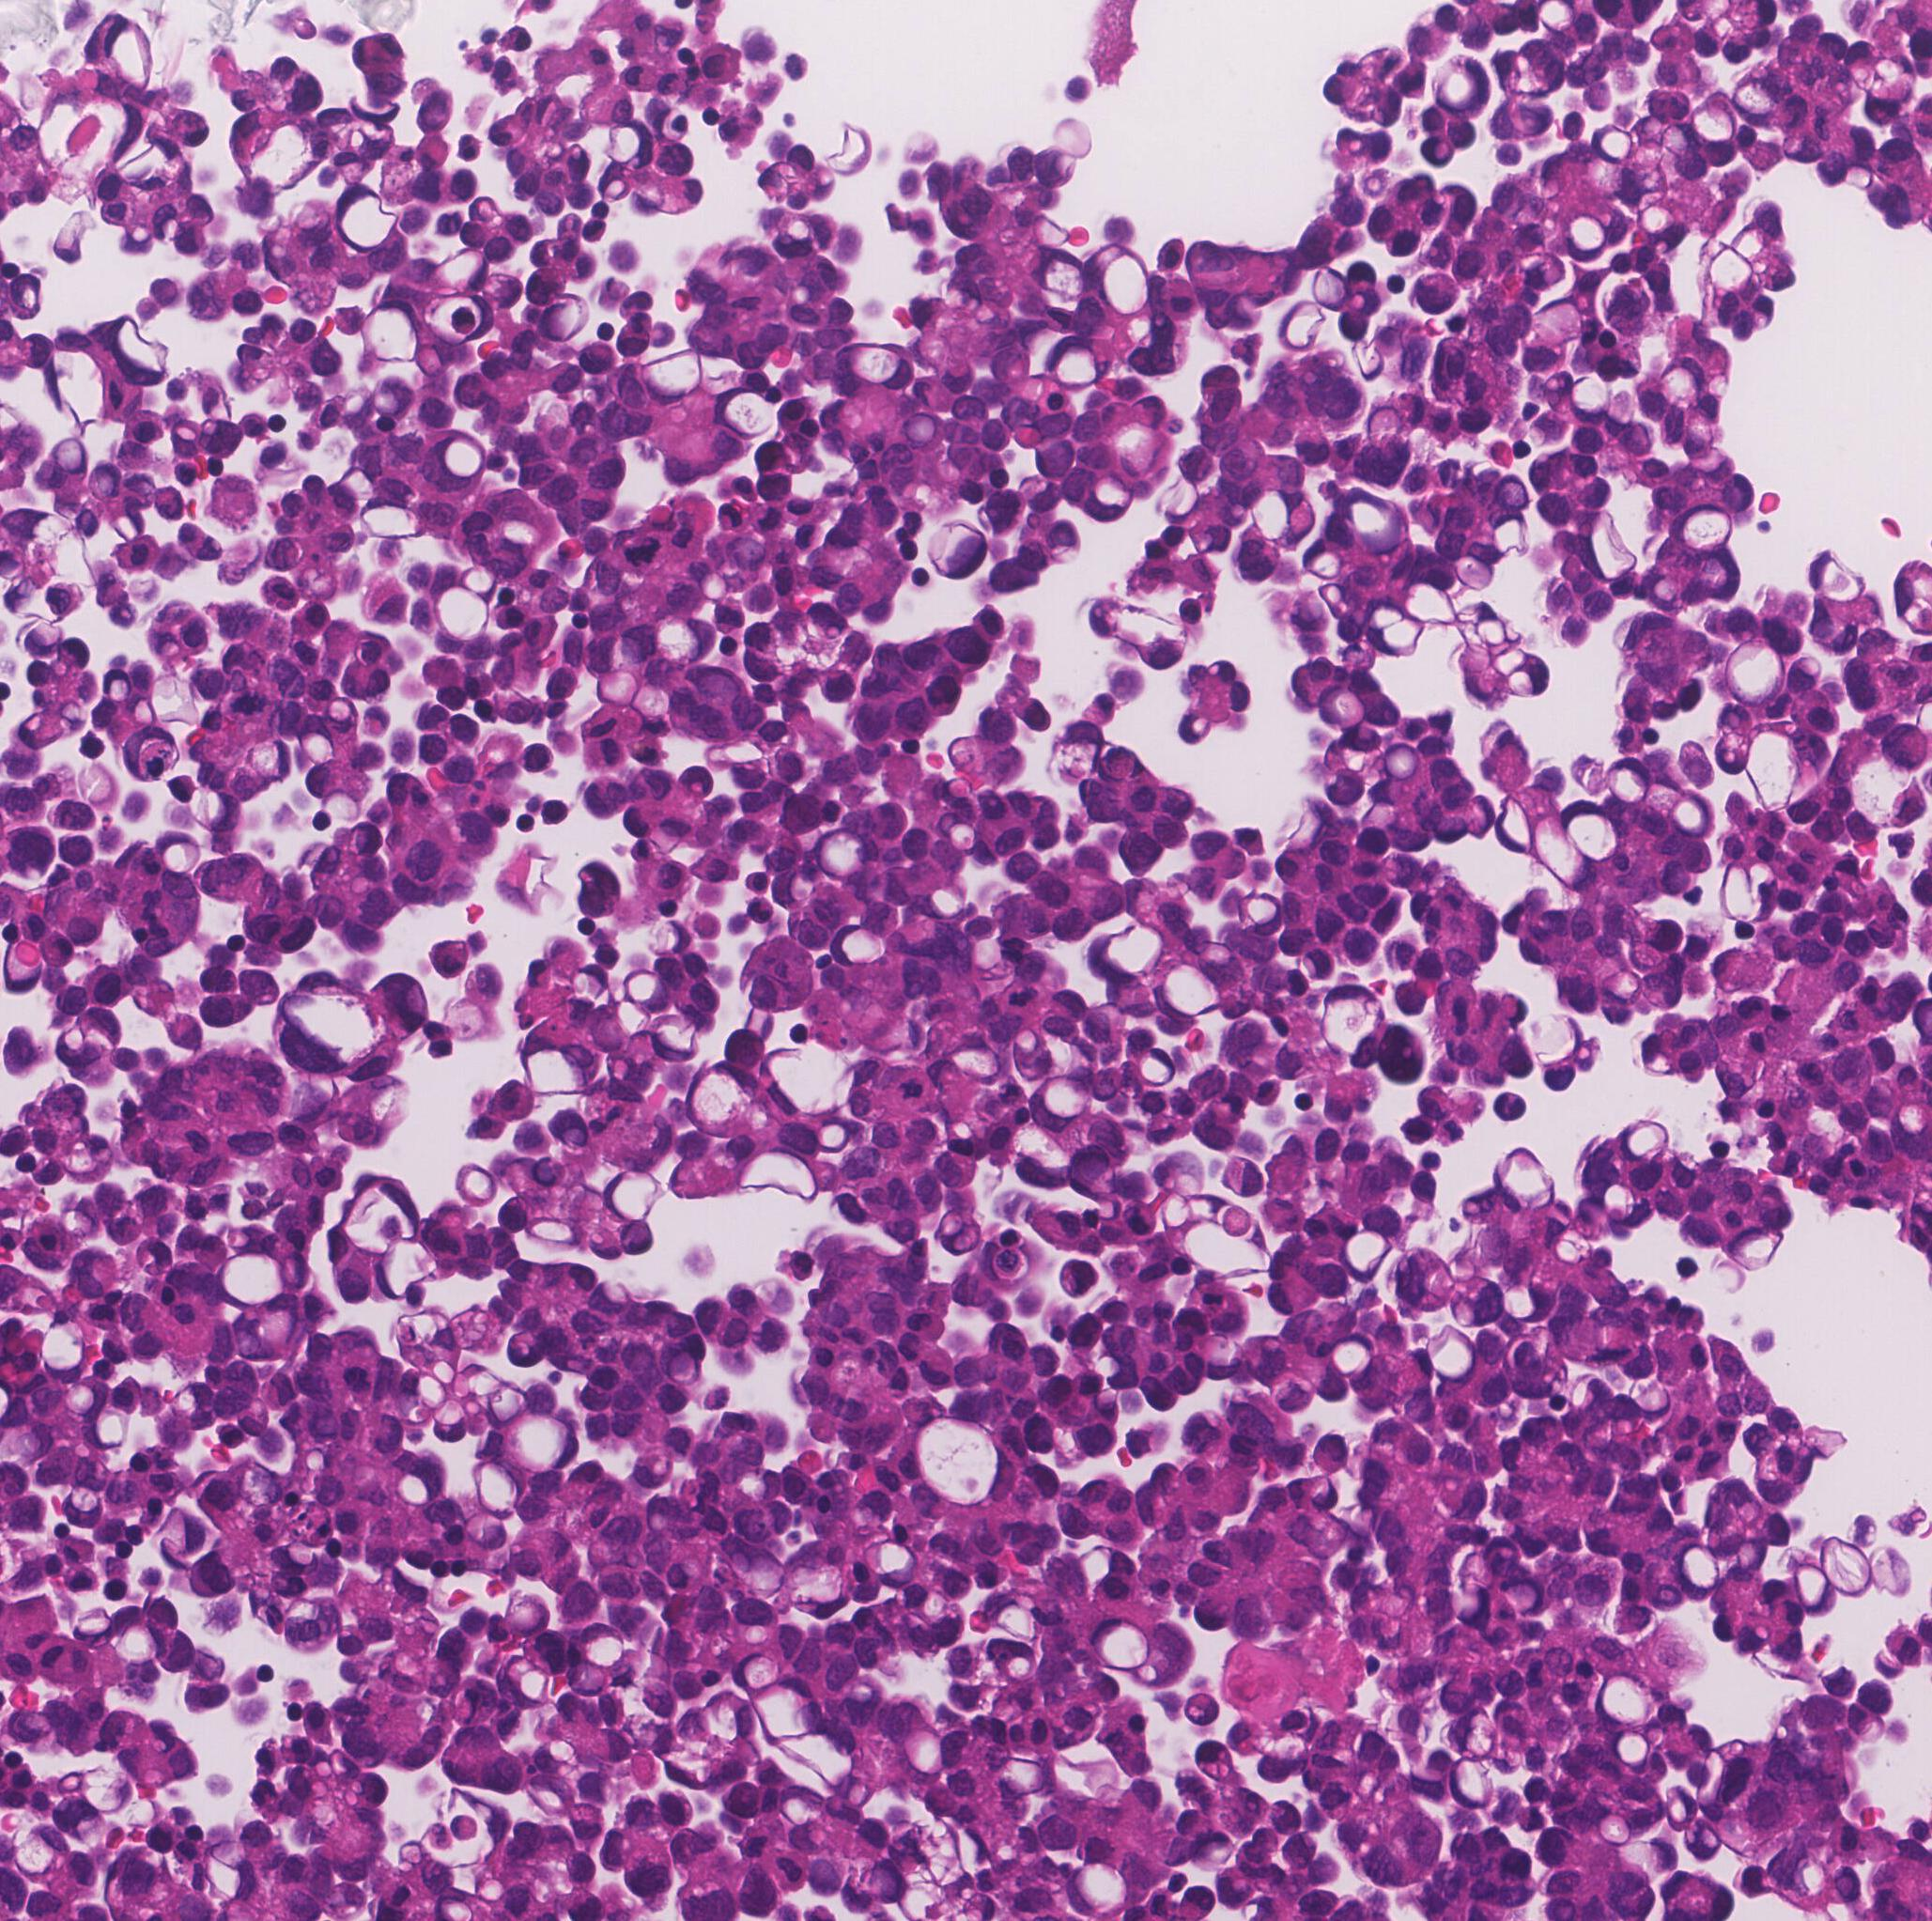ring_cell_cancer: (1086, 1611, 1161, 1678), (519, 1040, 595, 1103), (1723, 637, 1784, 712), (107, 315, 174, 383), (1536, 809, 1592, 890), (1323, 982, 1385, 1055), (1490, 1143, 1555, 1212), (1156, 959, 1226, 1020), (1559, 795, 1621, 862), (521, 1406, 581, 1474), (1431, 58, 1499, 118), (106, 16, 158, 93), (114, 725, 179, 786), (354, 1179, 424, 1235), (336, 186, 398, 250), (1805, 545, 1870, 605), (922, 522, 987, 582), (1093, 927, 1161, 983), (1094, 246, 1149, 317), (377, 1233, 436, 1296), (1422, 1325, 1483, 1384), (366, 299, 424, 362), (1596, 1671, 1659, 1727), (1823, 1534, 1879, 1597), (714, 385, 774, 443), (637, 355, 707, 405), (602, 1170, 665, 1224), (1066, 1859, 1130, 1914), (1670, 501, 1735, 552), (1033, 1075, 1089, 1131), (656, 612, 716, 665), (44, 1319, 91, 1384), (1533, 1013, 1587, 1070), (813, 827, 869, 881), (876, 1532, 927, 1592), (1672, 1541, 1723, 1601), (362, 500, 428, 545), (1402, 575, 1459, 628), (1731, 74, 1784, 128), (605, 118, 660, 171), (855, 341, 910, 394), (1047, 336, 1101, 389), (194, 783, 246, 836), (660, 1332, 711, 1386), (649, 1015, 706, 1064), (1601, 756, 1654, 807), (435, 431, 489, 480), (1040, 245, 1089, 299), (897, 1729, 954, 1777), (1730, 1224, 1788, 1270), (51, 202, 93, 264), (1615, 1119, 1670, 1166), (831, 920, 887, 966), (472, 1458, 517, 1515), (1496, 790, 1533, 858), (1531, 301, 1591, 343), (106, 104, 144, 169), (396, 1453, 445, 1504), (943, 1041, 1005, 1082), (778, 1777, 827, 1826), (1087, 475, 1137, 524), (1561, 213, 1612, 260), (1624, 1372, 1675, 1420), (1694, 554, 1742, 605), (1710, 243, 1756, 296), (989, 1597, 1042, 1643), (1450, 1576, 1494, 1631), (1284, 297, 1325, 355), (538, 299, 586, 348), (1636, 195, 1684, 245), (799, 1571, 852, 1615), (264, 1295, 306, 1349), (1448, 1761, 1496, 1808), (1328, 1332, 1378, 1377), (252, 730, 296, 781), (1320, 684, 1372, 727), (14, 1824, 55, 1879), (84, 1768, 132, 1814), (1160, 475, 1205, 522), (116, 1620, 165, 1664), (436, 250, 491, 289), (1137, 1043, 1181, 1091), (1661, 359, 1703, 408), (450, 1166, 501, 1207), (1795, 1560, 1832, 1615), (735, 1650, 781, 1694), (623, 969, 669, 1013), (465, 1509, 512, 1552), (1568, 376, 1608, 426), (1372, 621, 1425, 658), (1490, 510, 1534, 554), (158, 834, 202, 878), (1591, 123, 1636, 165), (1225, 1154, 1270, 1196), (431, 1399, 472, 1446), (1503, 1571, 1543, 1618), (1050, 1260, 1100, 1298), (582, 1622, 626, 1664), (371, 375, 412, 420), (62, 1485, 102, 1530), (1673, 790, 1712, 837), (1383, 742, 1427, 783), (563, 1801, 607, 1842), (1594, 1808, 1635, 1852), (1197, 1740, 1237, 1784), (278, 1536, 324, 1574), (924, 885, 970, 924), (81, 1006, 127, 1045), (1789, 653, 1830, 695), (1246, 894, 1286, 936), (51, 436, 93, 477), (350, 88, 401, 121), (167, 1502, 206, 1546), (549, 1112, 593, 1150), (509, 1599, 554, 1636), (501, 515, 547, 552), (463, 294, 496, 343), (297, 725, 338, 765), (408, 1370, 449, 1411), (904, 410, 943, 452), (63, 1379, 106, 1418), (1601, 966, 1645, 1003), (86, 466, 130, 503), (1299, 544, 1344, 579), (1659, 1784, 1694, 1830), (1188, 1833, 1233, 1868), (40, 929, 79, 969), (1314, 269, 1353, 310), (91, 1413, 134, 1450), (99, 661, 135, 704), (595, 674, 640, 707), (568, 1661, 611, 1696), (1367, 405, 1402, 447), (21, 625, 63, 660), (1353, 338, 1387, 382), (1464, 795, 1496, 841), (1457, 554, 1494, 593), (633, 679, 670, 718), (294, 1082, 331, 1121), (419, 134, 454, 174), (1365, 593, 1406, 628), (1506, 667, 1548, 700), (16, 721, 62, 751), (1647, 573, 1684, 610), (487, 1388, 524, 1425), (274, 1254, 310, 1293), (1617, 1731, 1652, 1770), (463, 561, 496, 602), (1844, 157, 1881, 192), (79, 1608, 114, 1645), (623, 1221, 658, 1258), (697, 568, 732, 605), (171, 1015, 204, 1054), (943, 820, 982, 853), (1184, 1692, 1223, 1726), (1415, 137, 1455, 169), (1665, 120, 1700, 155), (362, 704, 398, 739), (575, 960, 607, 999), (1177, 711, 1216, 742), (1467, 667, 1503, 700), (123, 222, 157, 257), (58, 637, 90, 674), (452, 1687, 480, 1727), (1360, 804, 1401, 832), (625, 1031, 658, 1064), (934, 1203, 968, 1237), (948, 737, 982, 771), (1475, 617, 1506, 653), (1494, 478, 1531, 508), (318, 792, 357, 820), (1870, 1647, 1909, 1675), (614, 705, 648, 737), (160, 1532, 190, 1567), (818, 1117, 848, 1152), (1012, 1020, 1042, 1055), (787, 864, 815, 901), (1610, 391, 1638, 426), (1504, 987, 1527, 1029), (327, 698, 357, 730), (450, 1812, 479, 1845), (1492, 651, 1527, 677), (943, 776, 971, 807), (593, 174, 628, 199), (169, 774, 197, 804), (648, 503, 677, 531), (468, 195, 498, 223), (577, 218, 609, 245), (227, 1228, 260, 1253), (1318, 581, 1346, 609), (76, 507, 99, 540), (60, 1768, 84, 1798), (155, 632, 181, 658), (1636, 116, 1661, 141), (530, 960, 549, 987)
